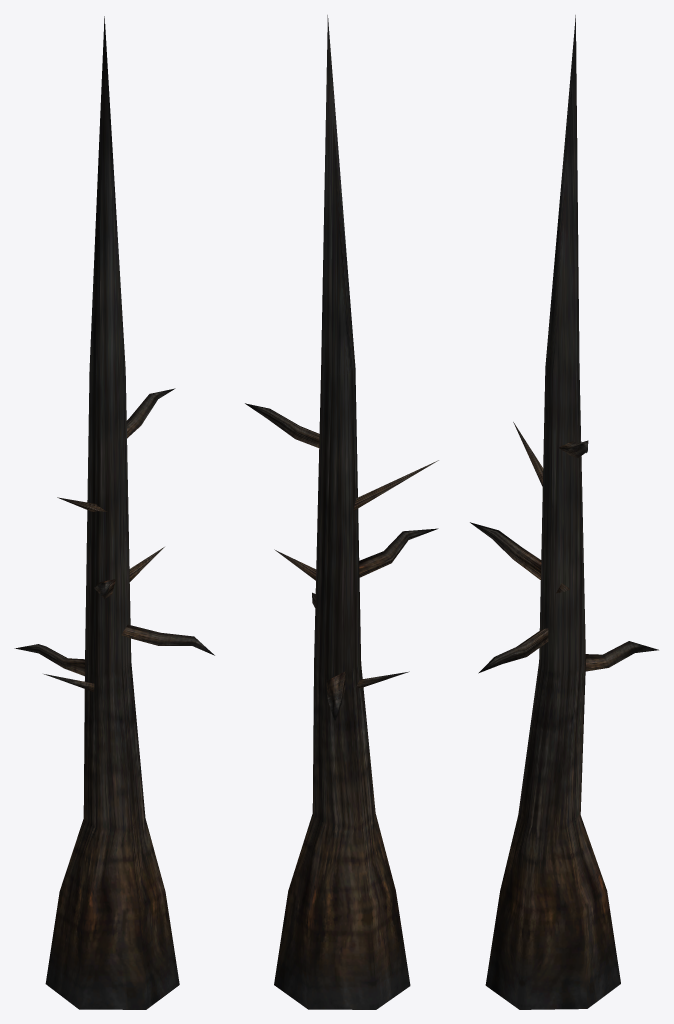
Rendered from burningsteppestree01.glb.
3 renders of one model, left to right at view 1: azimuth 30°, elevation 25°; view 2: azimuth 150°, elevation 25°; view 3: azimuth 270°, elevation 25°, orthographic.
Bounding box in the file's own units: 9.22 × 54.24 × 9.64.
Materials: 1 (1 with a texture image).
